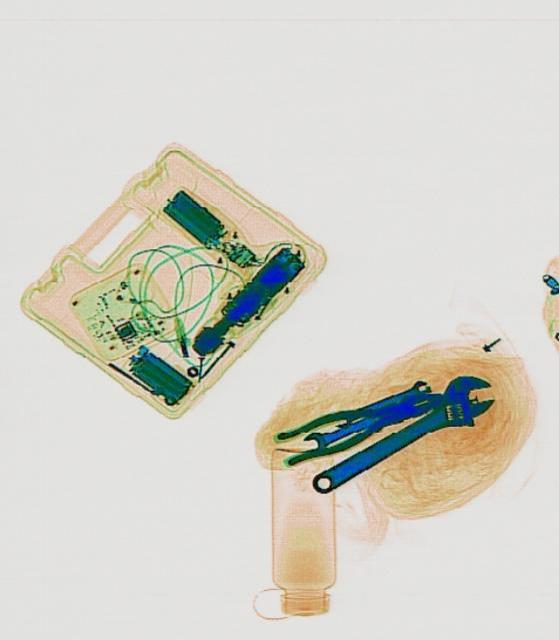Pliers: (273, 378, 448, 468)
Wrench: (300, 362, 502, 512), (331, 376, 429, 429), (299, 404, 386, 456)
